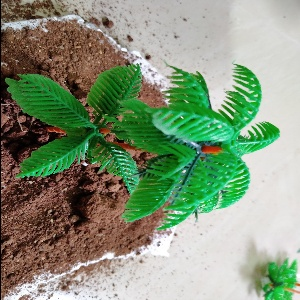plant: (4, 66, 280, 228)
